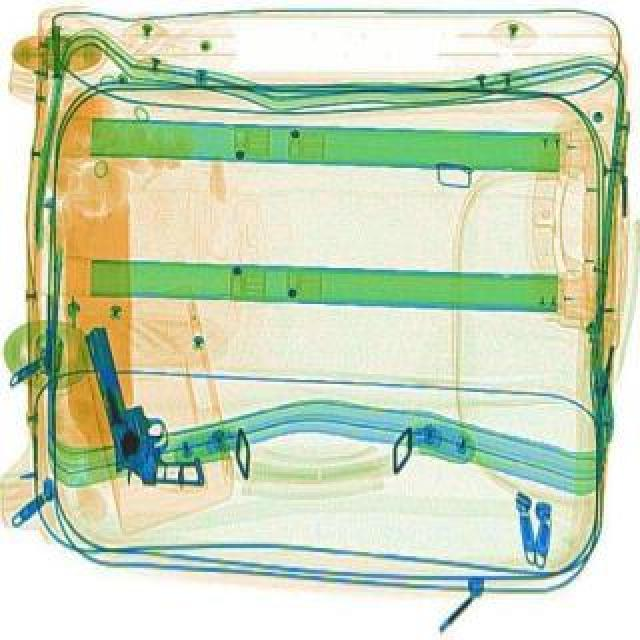gun: (72, 314, 212, 508)
